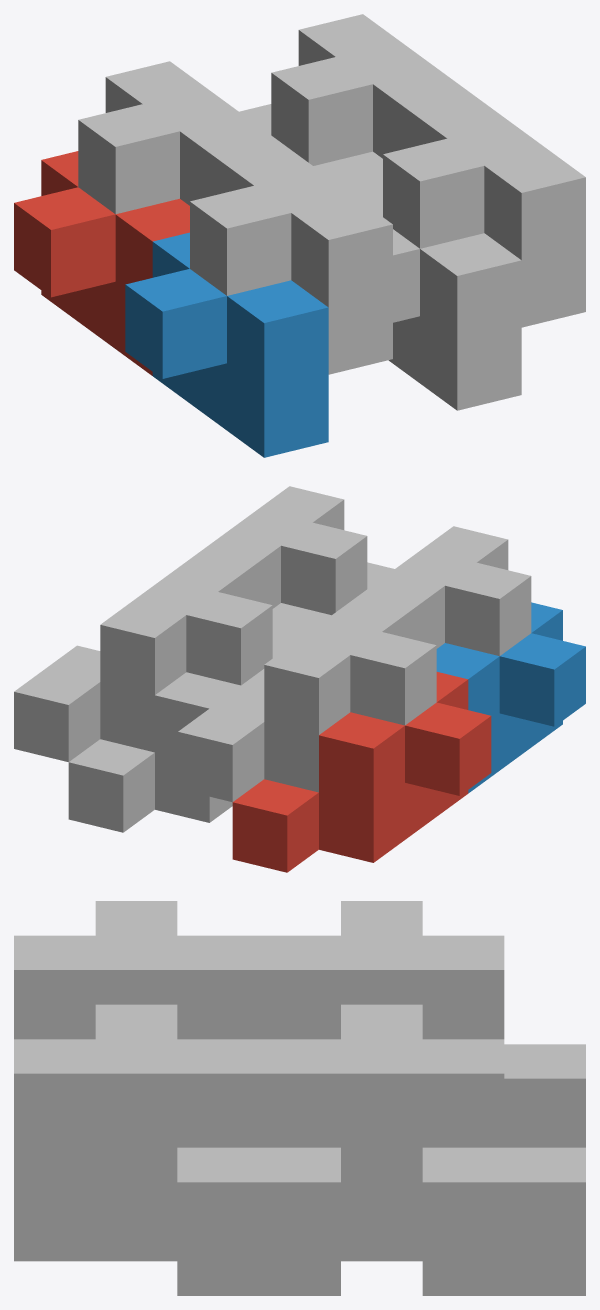
File: tiling.obj
3 views of the same model, one above another, from view 1: azimuth 30°, elevation 25°; view 2: azimuth 150°, elevation 25°; view 3: azimuth 270°, elevation 25° (orthographic). The views are drawn at different scales.
Parts seen in each view (by area): view 1: copy_1_domain_2, copy_1_domain_4, copy_1_domain_8, copy_1_domain_6, copy_1_domain_3, copy_1_domain_7, copy_1_domain_1, copy_1_domain_5; view 2: copy_1_domain_3, copy_1_domain_7, copy_1_domain_1, copy_1_domain_4, copy_1_domain_8, copy_1_domain_5, copy_1_domain_2, copy_1_domain_6; view 3: copy_1_domain_8, copy_1_domain_7, copy_1_domain_3, copy_1_domain_4, copy_1_domain_6, copy_1_domain_5.
Boxes of the visible parts, <box> form: copy_1_domain_2: <box>125,232,328,457</box>; copy_1_domain_4: <box>190,143,392,374</box>; copy_1_domain_8: <box>383,95,585,327</box>; copy_1_domain_6: <box>351,185,521,410</box>; copy_1_domain_3: <box>78,61,280,214</box>; copy_1_domain_7: <box>271,14,473,165</box>; copy_1_domain_1: <box>14,151,189,375</box>; copy_1_domain_5: <box>239,104,382,193</box>; copy_1_domain_3: <box>178,595,436,802</box>; copy_1_domain_7: <box>14,555,272,761</box>; copy_1_domain_1: <box>232,672,491,872</box>; copy_1_domain_4: <box>359,526,531,656</box>; copy_1_domain_8: <box>195,486,367,615</box>; copy_1_domain_5: <box>68,632,299,832</box>; copy_1_domain_2: <box>436,602,585,793</box>; copy_1_domain_6: <box>272,562,394,638</box>; copy_1_domain_8: <box>14,1004,340,1256</box>; copy_1_domain_7: <box>259,1004,585,1256</box>; copy_1_domain_3: <box>259,901,585,1147</box>; copy_1_domain_4: <box>14,901,258,1039</box>; copy_1_domain_6: <box>14,1222,340,1295</box>; copy_1_domain_5: <box>341,1222,585,1295</box>.
Size of the model in its own units: 7 by 3 by 7.
